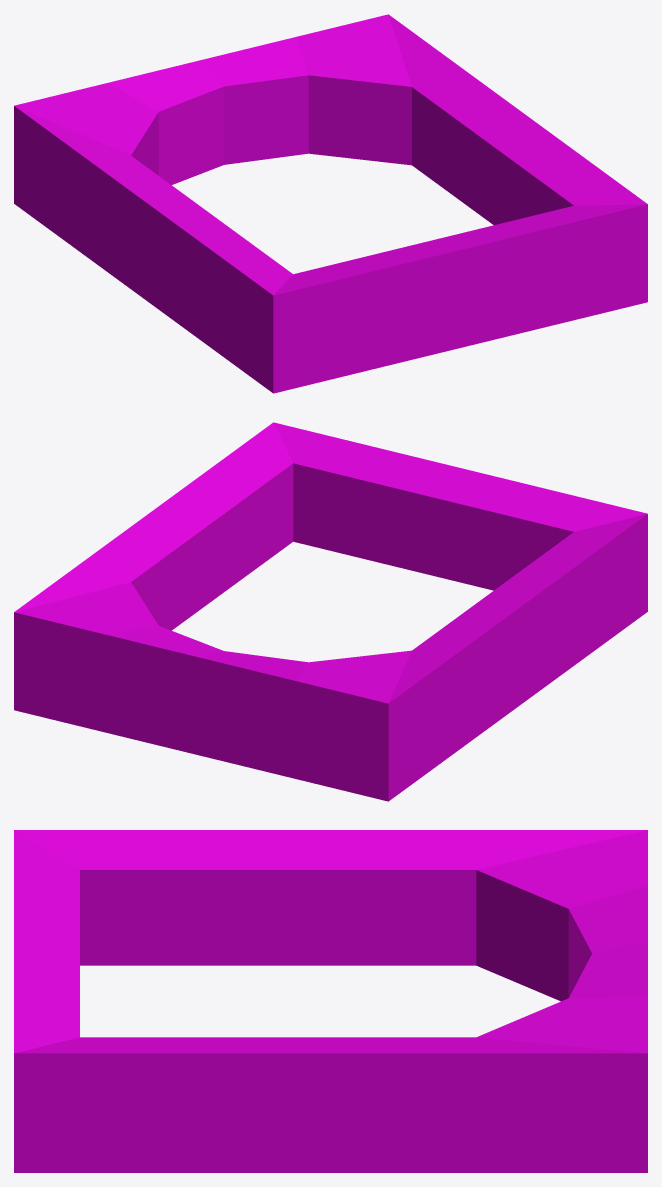
Rendered from ArchwayWall.fbx.
3 views of the same model, one above another, from view 1: azimuth 30°, elevation 25°; view 2: azimuth 150°, elevation 25°; view 3: azimuth 270°, elevation 25° (orthographic). The views are drawn at different scales.
Visible parts, largest first — view 1: ArchwayWall; view 2: ArchwayWall; view 3: ArchwayWall.
Part boxes in pixels (x1=…): ArchwayWall: x1=14, y1=14, x2=647, y2=393; ArchwayWall: x1=14, y1=422, x2=647, y2=801; ArchwayWall: x1=14, y1=830, x2=647, y2=1172.
Bounding box in the file's own units: 80000 × 20000 × 96000.
